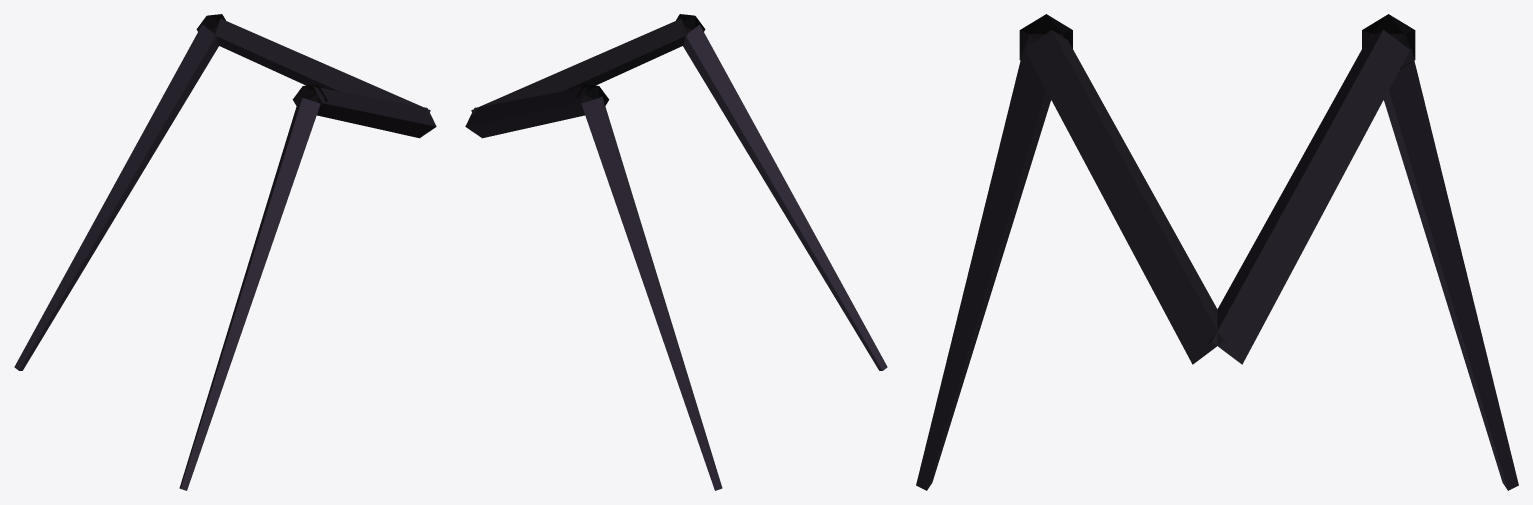
File: dk_mob_spider_legs_l.glb
3 renders of one model, left to right at view 1: azimuth 30°, elevation 25°; view 2: azimuth 150°, elevation 25°; view 3: azimuth 270°, elevation 25°, orthographic. The views are drawn at different scales.
Visible parts, largest first — view 1: dk_mob_spider_legs_l; view 2: dk_mob_spider_legs_l; view 3: dk_mob_spider_legs_l.
Part boxes in pixels (box(x1,y1,x2,y2)): dk_mob_spider_legs_l: box(14, 14, 436, 490); dk_mob_spider_legs_l: box(465, 14, 887, 490); dk_mob_spider_legs_l: box(916, 14, 1518, 490).
Size of the model in its own units: 1.96 by 1.92 by 1.73.
Materials: 1 (1 with a texture image).
